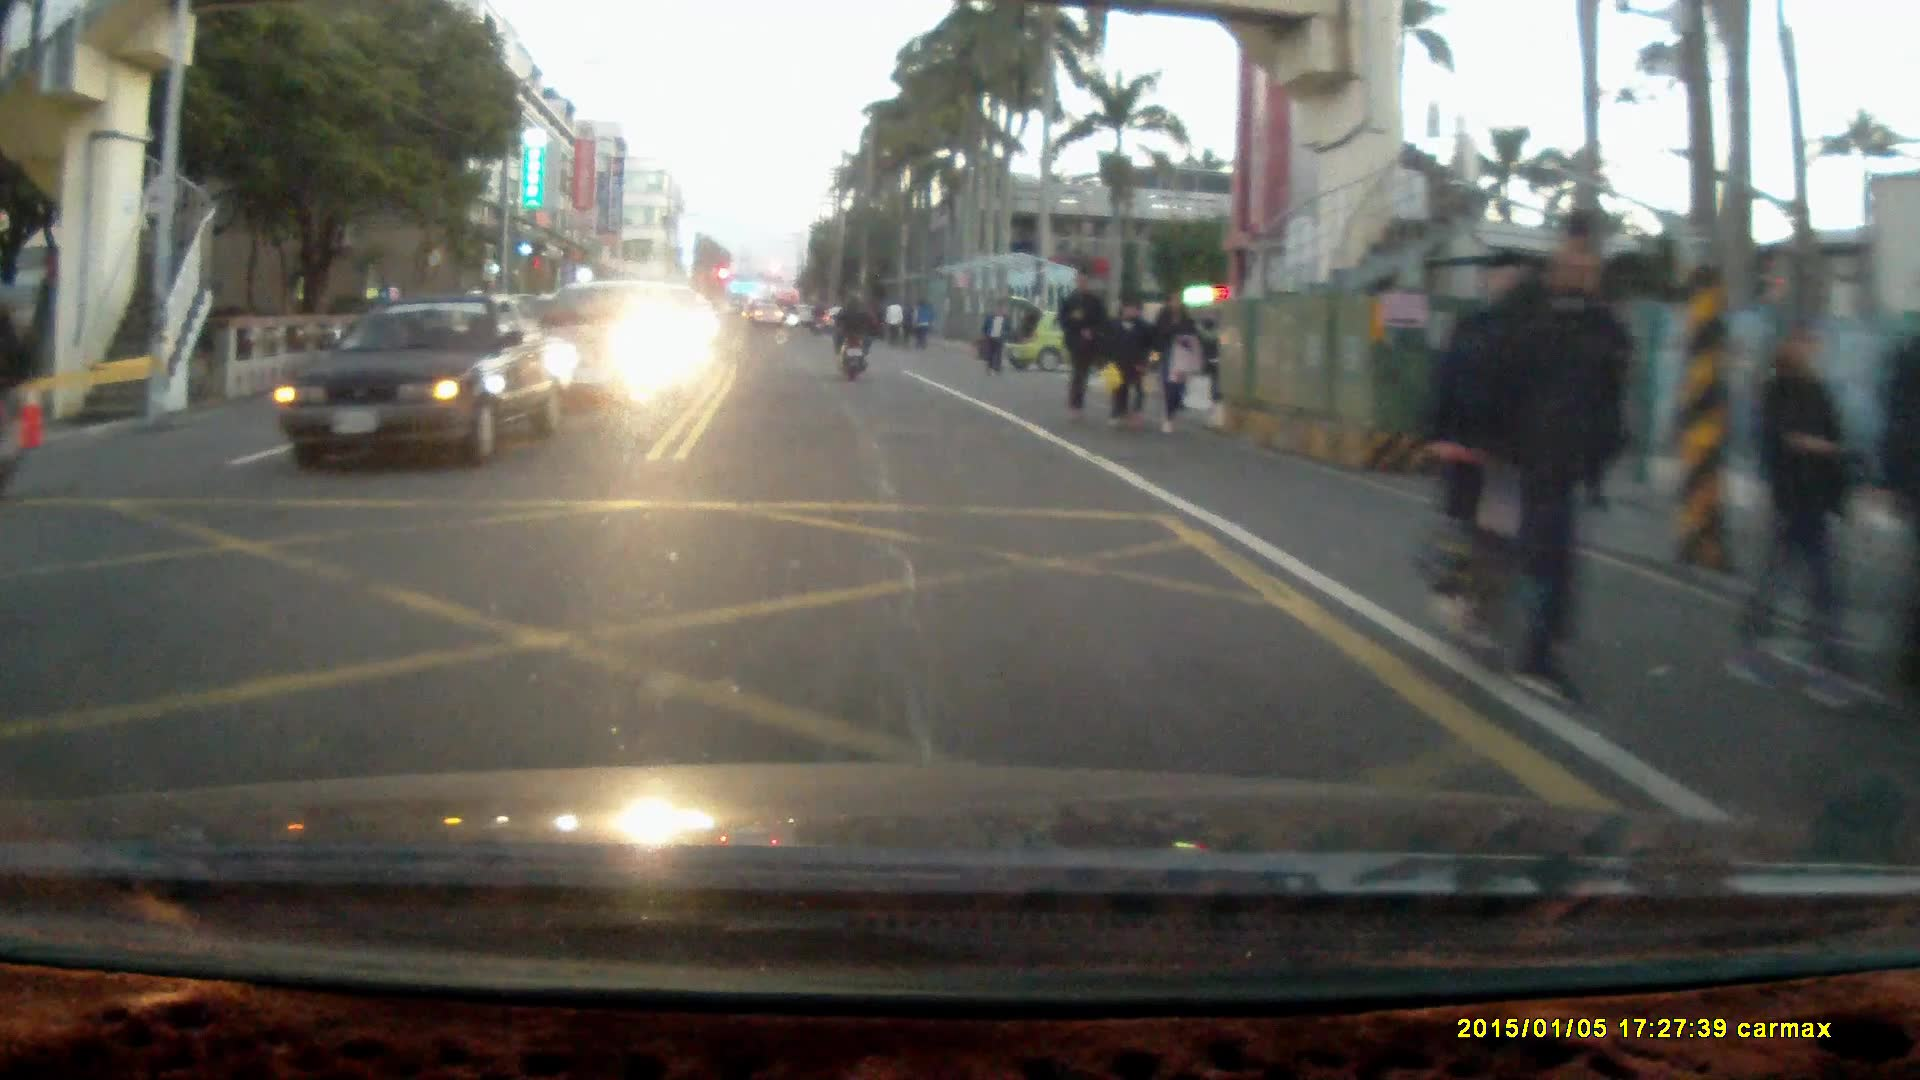pedestrian: (1453, 205, 1620, 713), (1721, 312, 1854, 712), (1056, 268, 1107, 424), (1148, 286, 1200, 431), (1102, 296, 1154, 425), (979, 298, 1007, 375)
rider: (829, 287, 871, 380)
vehicle: (271, 296, 576, 466), (525, 279, 696, 407), (995, 304, 1153, 374)
